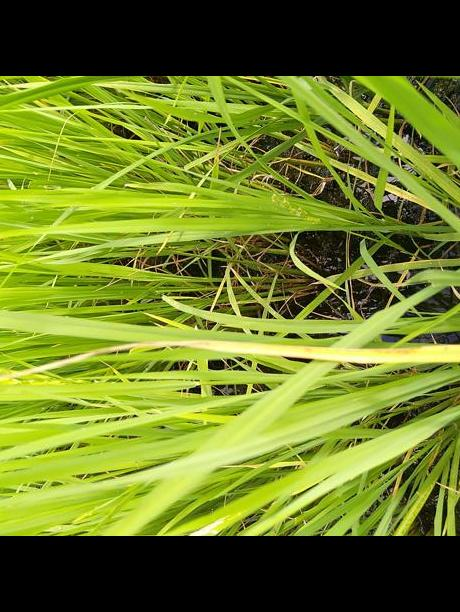Leaf Blight: (0, 340, 460, 382)
